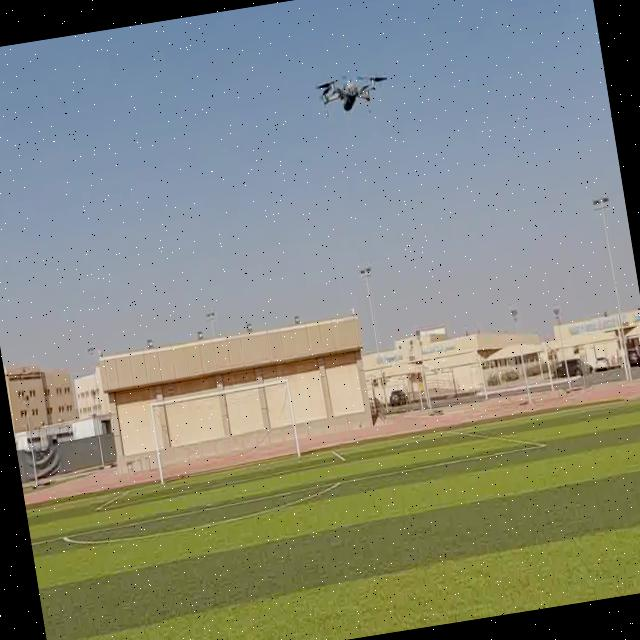drone: (310, 66, 397, 128)
